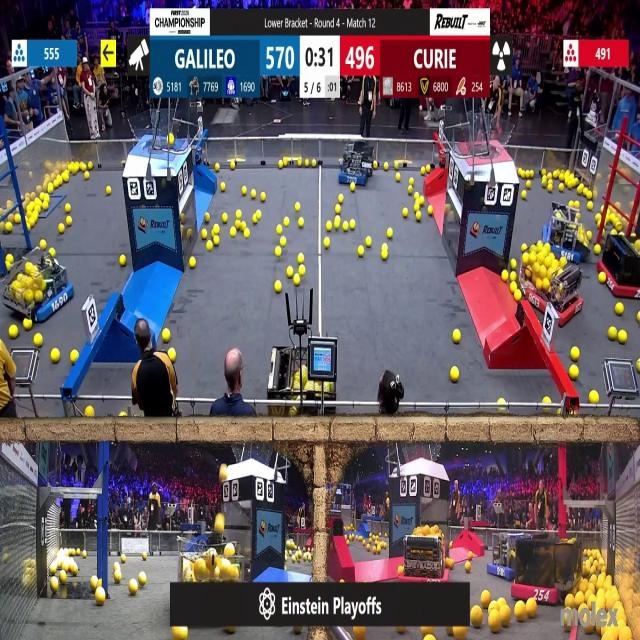ball_airborne: (214, 514, 224, 534), (353, 626, 364, 640), (220, 464, 228, 480), (169, 136, 174, 146)
ball_ground: (498, 606, 511, 628), (469, 606, 482, 627), (526, 600, 536, 618), (516, 602, 525, 620), (96, 589, 106, 605), (130, 581, 140, 596), (482, 592, 491, 608), (570, 348, 579, 362), (569, 365, 578, 378), (608, 326, 617, 339), (50, 349, 58, 363), (590, 391, 599, 403), (34, 335, 42, 348), (70, 350, 78, 363), (139, 572, 147, 585), (164, 328, 171, 342), (452, 366, 459, 380), (9, 325, 17, 337), (620, 332, 628, 344), (169, 349, 177, 361), (566, 594, 574, 606), (454, 331, 461, 344), (61, 570, 68, 583), (87, 408, 95, 419), (297, 266, 304, 278), (617, 304, 624, 316), (114, 570, 121, 582), (92, 576, 99, 588), (51, 580, 58, 592), (334, 219, 342, 229), (25, 319, 32, 330), (188, 257, 195, 268), (523, 253, 530, 264), (447, 558, 454, 569), (276, 281, 282, 293), (119, 254, 125, 266), (599, 273, 605, 285), (292, 276, 299, 286), (286, 268, 293, 278), (364, 238, 371, 248), (349, 220, 356, 230), (4, 222, 11, 232), (42, 201, 49, 211), (71, 565, 78, 575), (207, 241, 213, 252), (397, 566, 403, 577), (213, 237, 220, 246), (511, 282, 518, 291), (297, 253, 303, 263), (387, 230, 393, 240), (595, 244, 601, 254), (244, 230, 250, 240), (276, 246, 282, 256), (297, 217, 303, 227), (66, 216, 72, 226), (464, 562, 470, 572), (516, 290, 522, 300), (336, 205, 342, 215), (502, 272, 508, 282), (221, 213, 227, 223), (512, 272, 518, 282), (259, 190, 265, 200), (416, 211, 422, 221), (382, 250, 388, 260), (325, 220, 331, 230), (255, 210, 261, 220), (98, 576, 104, 586), (64, 172, 70, 182), (588, 189, 594, 199), (47, 183, 53, 193), (542, 396, 549, 404), (539, 170, 546, 178), (60, 223, 66, 232), (40, 241, 46, 250), (280, 238, 286, 247), (339, 193, 345, 202), (277, 224, 283, 233), (588, 202, 594, 211), (66, 204, 72, 213), (213, 224, 219, 233), (596, 213, 602, 222), (205, 213, 211, 222), (394, 163, 400, 172), (14, 215, 20, 224), (528, 170, 534, 179), (6, 254, 12, 263), (519, 169, 525, 178), (576, 185, 582, 194), (324, 238, 329, 248), (284, 217, 289, 227), (402, 208, 407, 218), (242, 185, 247, 195), (358, 247, 363, 257), (344, 220, 349, 230), (512, 258, 517, 268), (241, 220, 246, 230), (233, 220, 238, 230), (106, 186, 112, 194), (231, 230, 237, 238), (49, 248, 55, 256), (350, 183, 356, 191), (522, 244, 528, 252), (83, 172, 89, 180), (526, 180, 532, 188), (278, 159, 284, 167), (296, 160, 302, 168), (573, 201, 579, 209), (553, 171, 559, 179), (237, 210, 242, 219), (203, 231, 208, 240), (220, 182, 225, 191), (251, 189, 256, 198), (294, 203, 299, 212), (409, 185, 414, 194), (229, 160, 234, 169), (215, 162, 220, 171), (142, 554, 148, 561), (498, 398, 505, 404), (546, 183, 551, 191), (522, 190, 527, 198), (384, 164, 389, 172), (120, 556, 125, 564), (421, 168, 426, 176), (636, 360, 640, 370), (588, 232, 593, 240), (420, 198, 425, 206), (426, 166, 431, 174), (186, 230, 191, 238), (79, 164, 84, 172), (428, 207, 432, 216), (560, 183, 564, 192), (636, 313, 640, 322), (556, 411, 562, 417), (284, 160, 288, 169), (119, 413, 125, 419), (410, 177, 415, 184), (312, 162, 317, 169), (415, 191, 420, 198), (396, 174, 400, 182), (90, 163, 94, 171), (306, 161, 310, 169), (424, 636, 432, 640), (468, 553, 472, 560), (569, 201, 573, 208), (113, 563, 117, 570), (82, 552, 86, 559), (341, 578, 346, 583)
goal: (460, 118, 516, 158), (129, 115, 188, 152)
robot_blue: (0, 255, 71, 325), (547, 207, 590, 264), (339, 138, 375, 186), (487, 532, 517, 581)
robot_red: (520, 248, 584, 324), (513, 530, 577, 603), (601, 227, 640, 300), (402, 522, 447, 580), (448, 0, 487, 6)
